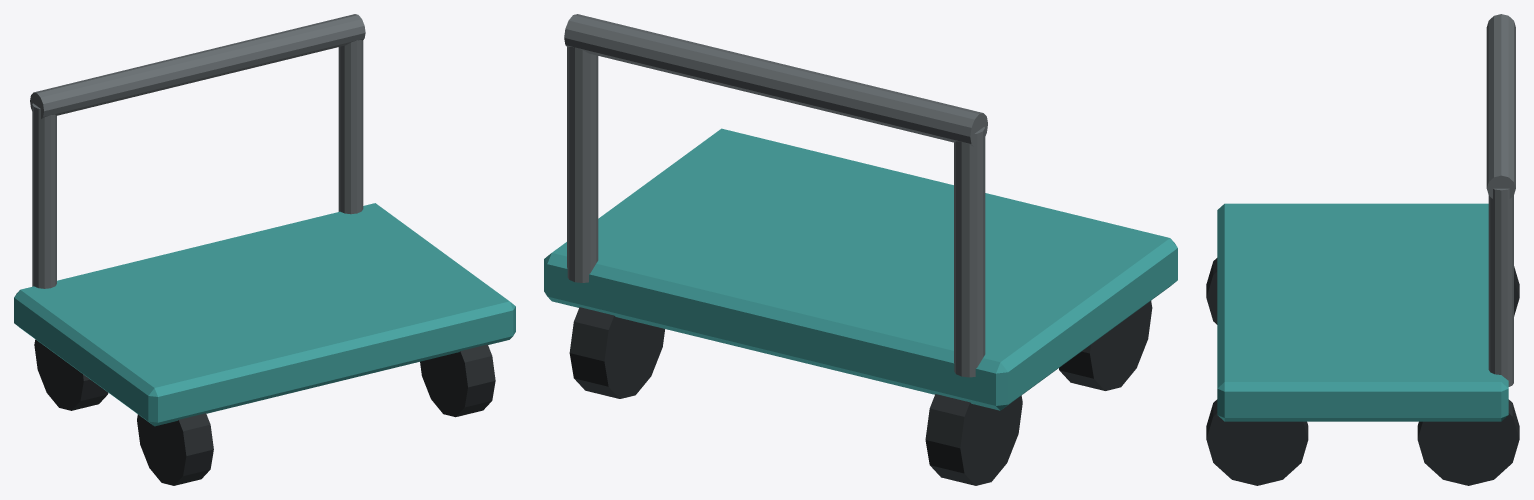
File: transport_cart.glb
3 renders of one model, left to right at view 1: azimuth 30°, elevation 25°; view 2: azimuth 150°, elevation 25°; view 3: azimuth 270°, elevation 25°, orthographic. The views are drawn at different scales.
Visible parts, largest first — view 1: CartDeck, HandleBar, HandleUpright.001, HandleUpright, Wheel, Wheel.002, Wheel.001; view 2: CartDeck, HandleBar, HandleUpright, HandleUpright.001, Wheel.001, Wheel.003, Wheel; view 3: CartDeck, Wheel.002, Wheel.003, HandleBar, HandleUpright.001, Wheel.
Part boxes in pixels (box(x1,y1,x2,y2)): CartDeck: box(14, 203, 515, 426); HandleBar: box(30, 14, 365, 118); HandleUpright.001: box(338, 40, 363, 214); HandleUpright: box(32, 103, 56, 288); Wheel: box(137, 413, 213, 485); Wheel.002: box(420, 344, 495, 417); Wheel.001: box(34, 339, 108, 410); CartDeck: box(544, 128, 1177, 410); HandleBar: box(564, 14, 987, 146); HandleUpright: box(954, 127, 985, 377); HandleUpright.001: box(567, 47, 598, 282); Wheel.001: box(925, 394, 1022, 485); Wheel.003: box(569, 307, 664, 398); Wheel: box(1059, 301, 1152, 390); CartDeck: box(1217, 203, 1508, 421); Wheel.002: box(1206, 399, 1308, 485); Wheel.003: box(1417, 399, 1519, 485); HandleBar: box(1486, 14, 1515, 198); HandleUpright.001: box(1488, 188, 1513, 386); Wheel: box(1206, 258, 1217, 324).
Bounding box in the file's own units: 1.2 × 0.95 × 0.86.
